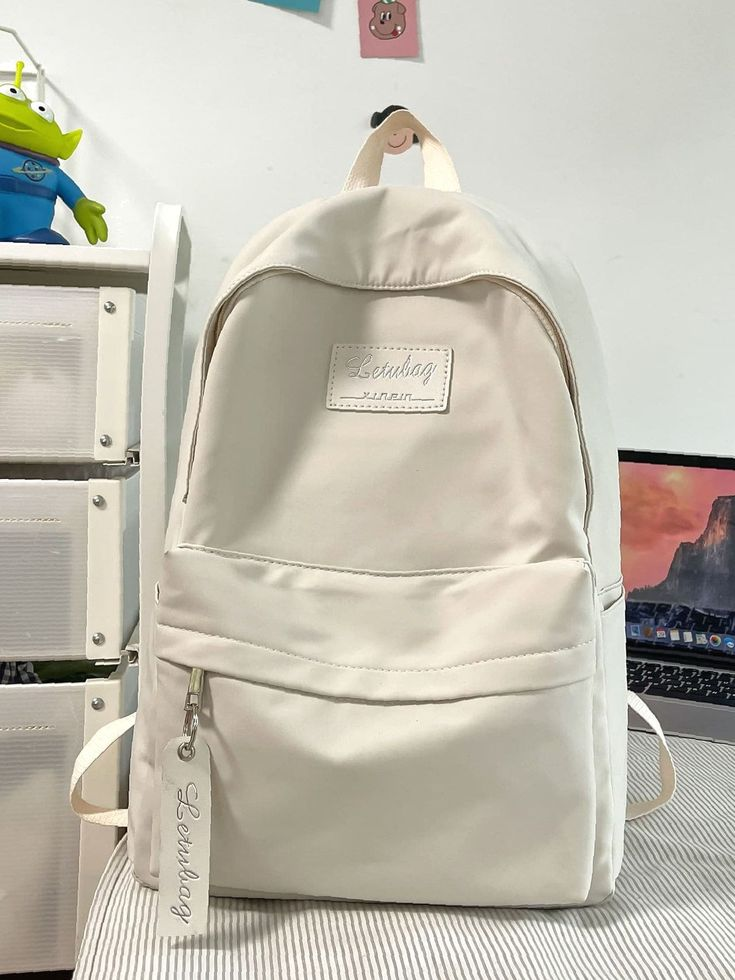nylon: (127, 183, 628, 907)
